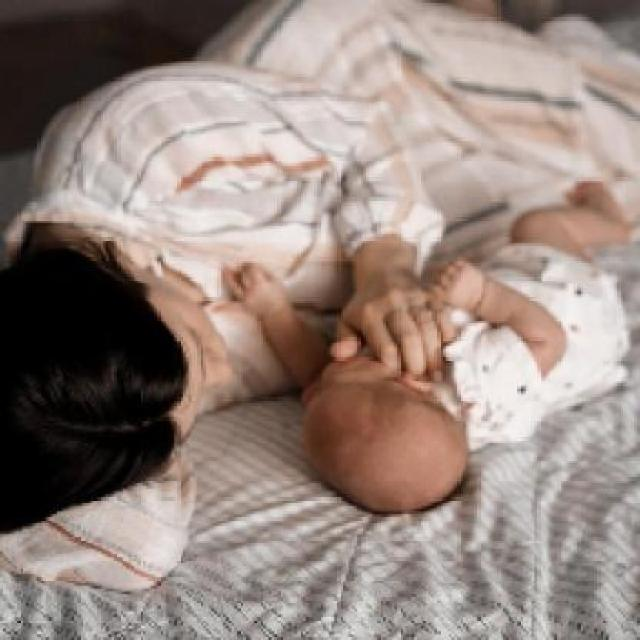child: (212, 178, 638, 513)
